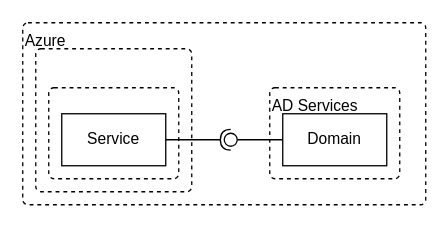
Image size: 448x227. Some labels were removed from this diagram. Each missing label, with the box of its shape:
App Services: (47, 86, 179, 179)
SubNet: (34, 47, 192, 192)
